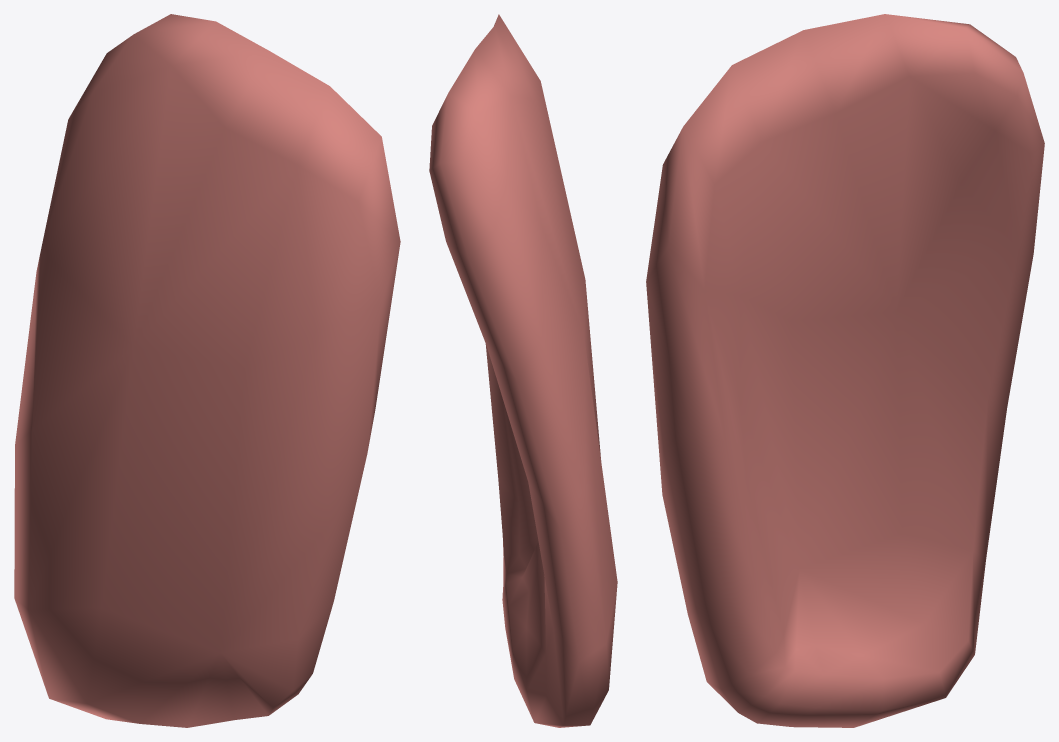
The picture shows the model from 3 angles, left to right: view 1: azimuth 30°, elevation 25°; view 2: azimuth 150°, elevation 25°; view 3: azimuth 270°, elevation 25°; orthographic projection. The views are drawn at different scales.
Visible parts, largest first — view 1: ZA_1ebaa9e058ee99f9; view 2: ZA_1ebaa9e058ee99f9; view 3: ZA_1ebaa9e058ee99f9.
Boxes of the visible parts, left/top/right/bottom form: ZA_1ebaa9e058ee99f9: left=14, top=14, right=400, bottom=727; ZA_1ebaa9e058ee99f9: left=429, top=14, right=617, bottom=727; ZA_1ebaa9e058ee99f9: left=646, top=14, right=1044, bottom=727.
Size of the model in its own units: 0.00145 by 0.00379 by 0.00183.
